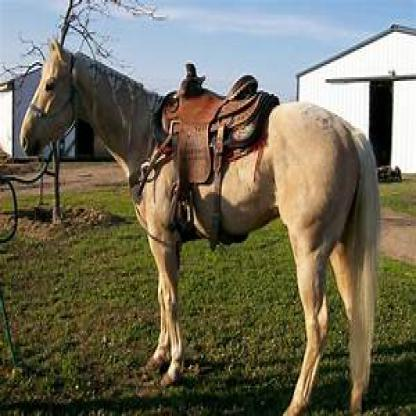horse: (19, 34, 383, 414)
